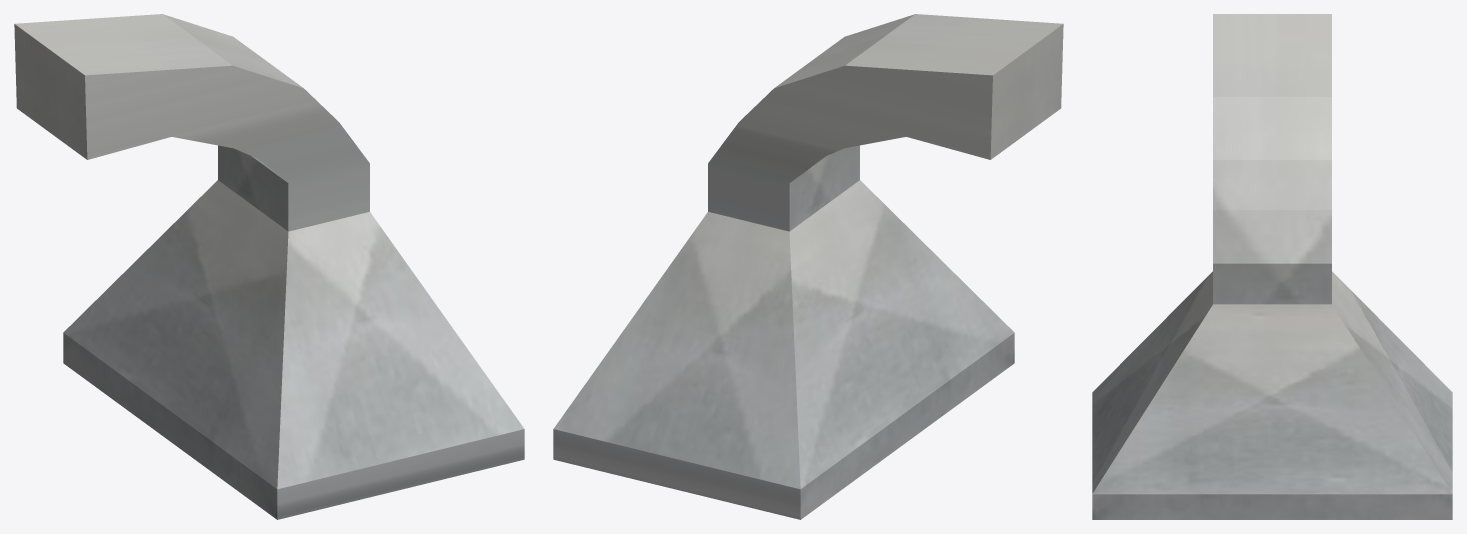
Rendered from vent_counter_top.fbx.
3 renders of one model, left to right at view 1: azimuth 30°, elevation 25°; view 2: azimuth 150°, elevation 25°; view 3: azimuth 270°, elevation 25°, orthographic. The views are drawn at different scales.
Visible parts, largest first — view 1: Cube; view 2: Cube; view 3: Cube.
Part boxes in pixels (box(x1,y1,x2,y2)): Cube: box(14, 14, 524, 519); Cube: box(553, 14, 1063, 519); Cube: box(1092, 14, 1452, 519).
Size of the model in its own units: 89.28 by 97.74 by 90.
